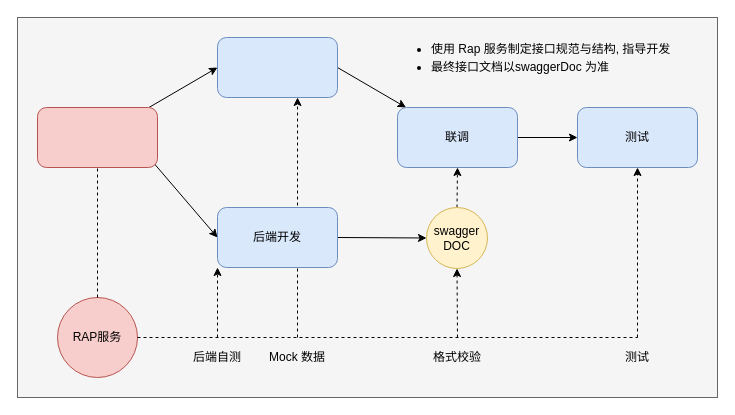
Some shapes in this 735 by 415 pixel diagram are drawn without their labels. Here are the shapes that lost their labels. From the top down, the centre of each, then its label:
At [277,67]: "前端开发".
At [97,137]: "制定接口".
